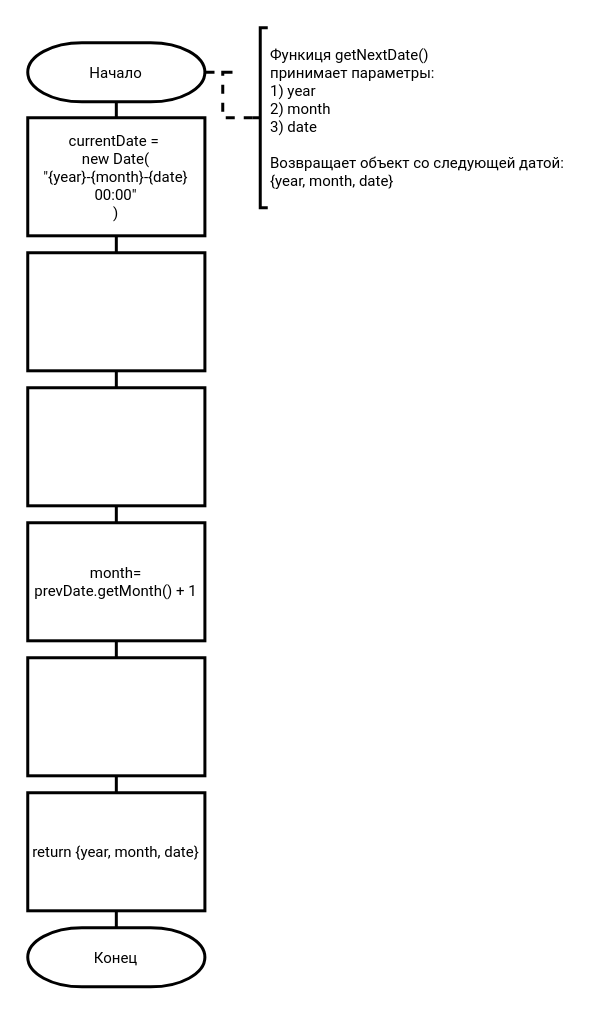
Image size: 590x1014. Some labels were removed from this diagram. Here are the shapes that lost their labels. From the top down, the box of each, then its label:
(26, 250, 206, 372): prevDate= new Date( currentDate.getTime() + 1000 * 60 * 60 * 24 * 1 )
(26, 386, 206, 507): year = prevDate.getFullYear()
(26, 656, 206, 777): date= prevDate.getDate()
